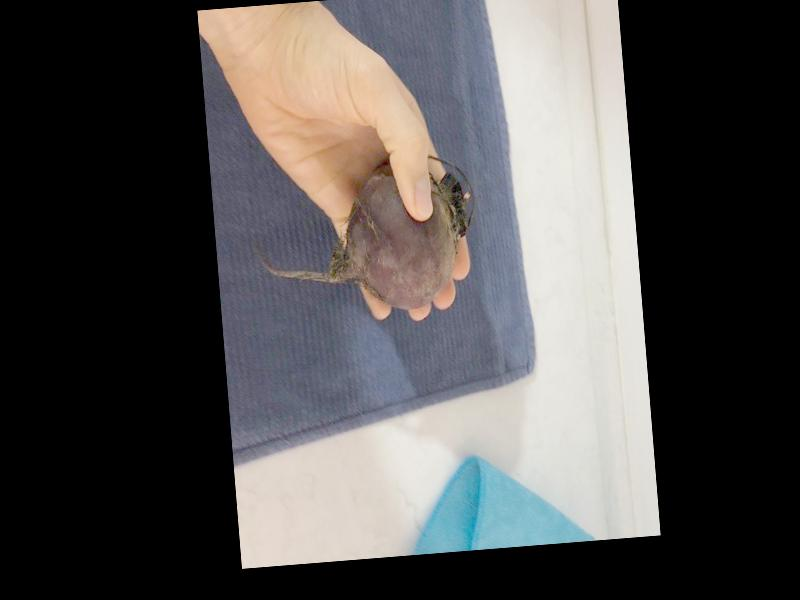Beet: (254, 150, 481, 319)
